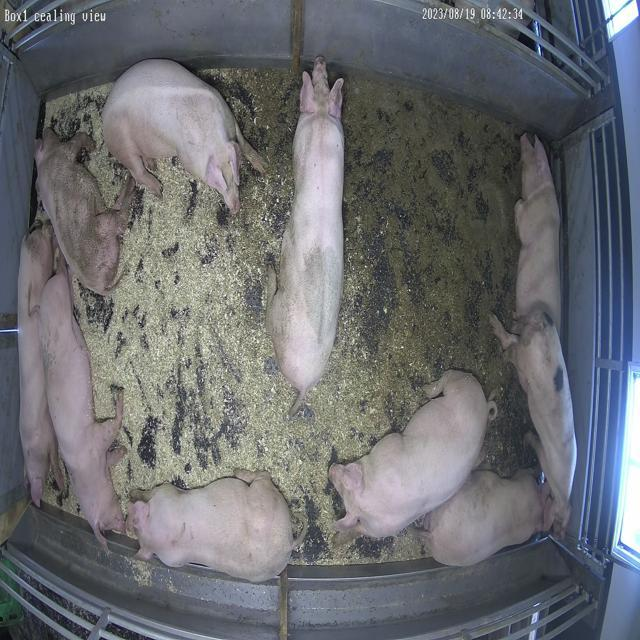Dirt: (332, 77, 534, 472), (194, 67, 298, 334)
Pig: (330, 372, 498, 540), (268, 57, 343, 414), (102, 59, 265, 214), (39, 261, 124, 548), (491, 310, 578, 536), (128, 472, 302, 584), (35, 128, 134, 296), (427, 470, 554, 568), (17, 222, 57, 506), (516, 134, 561, 330)
